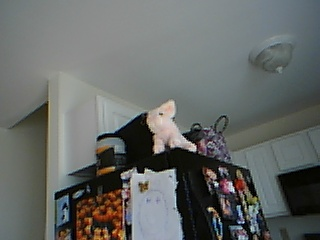piggy: (145, 98, 197, 155)
